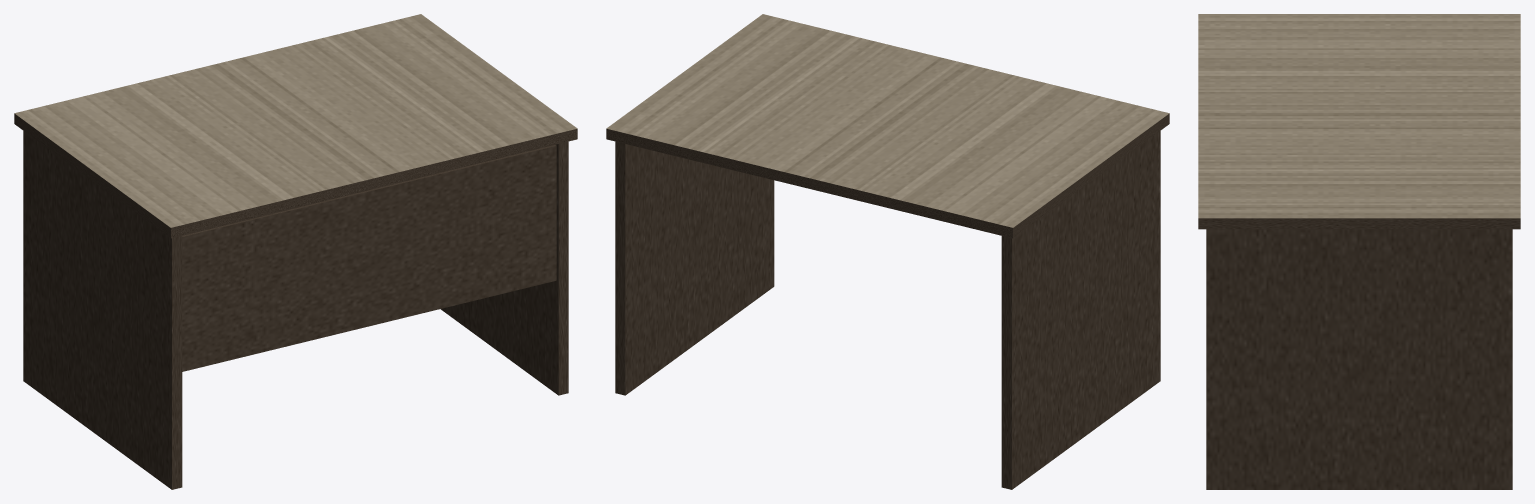
Rendered from SM_SaveDesk_Metal.fbx.
3 views of the same model, side by side, from view 1: azimuth 30°, elevation 25°; view 2: azimuth 150°, elevation 25°; view 3: azimuth 270°, elevation 25° (orthographic). The views are drawn at different scales.
Parts seen in each view (by area): view 1: SM_SaveDesk_Metal; view 2: SM_SaveDesk_Metal; view 3: SM_SaveDesk_Metal.
Boxes of the visible parts, bbox=[...] form: SM_SaveDesk_Metal: bbox=[14, 14, 577, 489]; SM_SaveDesk_Metal: bbox=[606, 14, 1169, 489]; SM_SaveDesk_Metal: bbox=[1198, 14, 1520, 489].
Bounding box in the file's own units: 1.2 × 0.75 × 0.8.
1 material, 1 textured.
